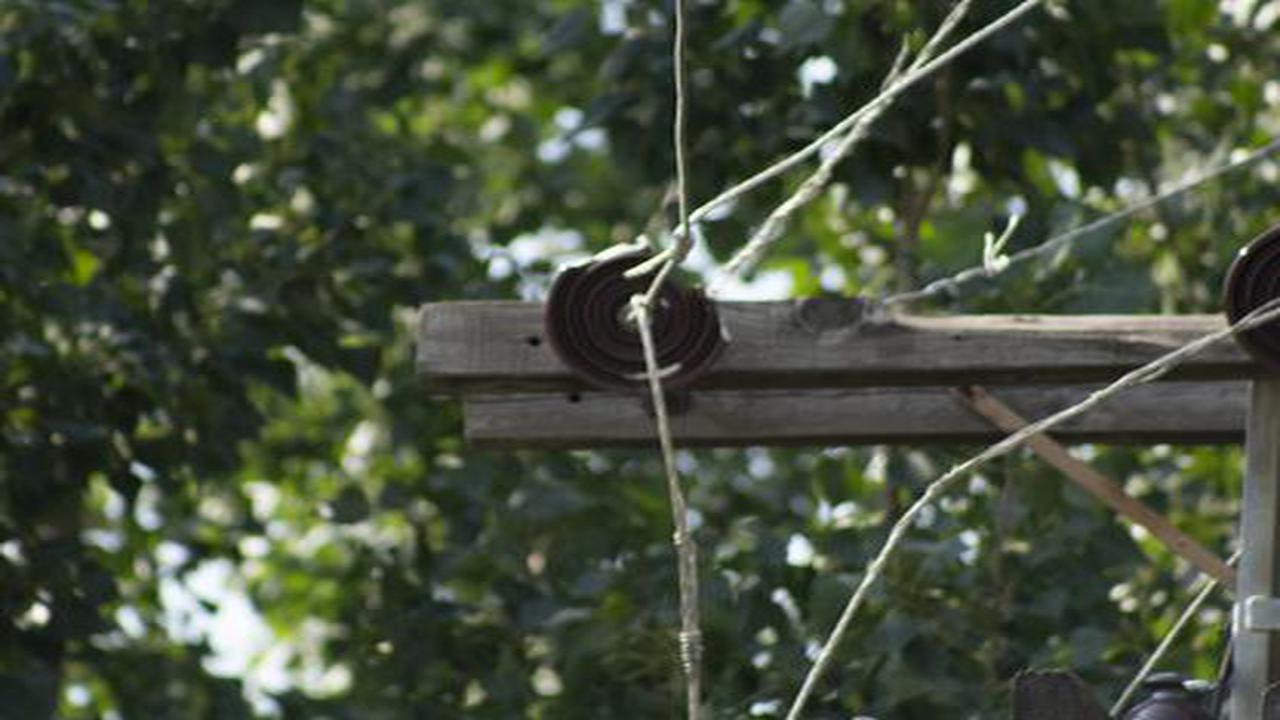defect_disc: (542, 238, 738, 405)
